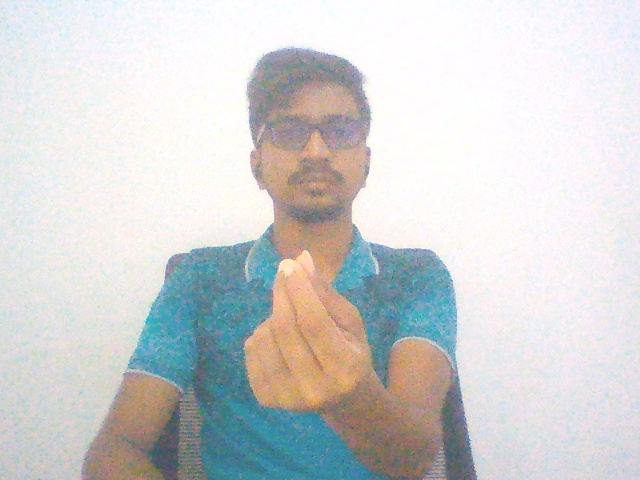dog: (217, 246, 410, 429)
